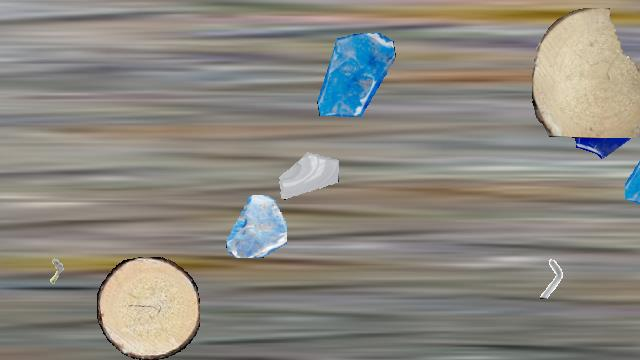glass: (314, 33, 398, 117), (564, 78, 640, 160), (224, 195, 286, 257), (278, 140, 338, 200), (625, 142, 640, 208)
metal: (530, 257, 572, 299), (34, 255, 74, 295)
wood: (532, 8, 640, 138), (97, 257, 199, 359)
